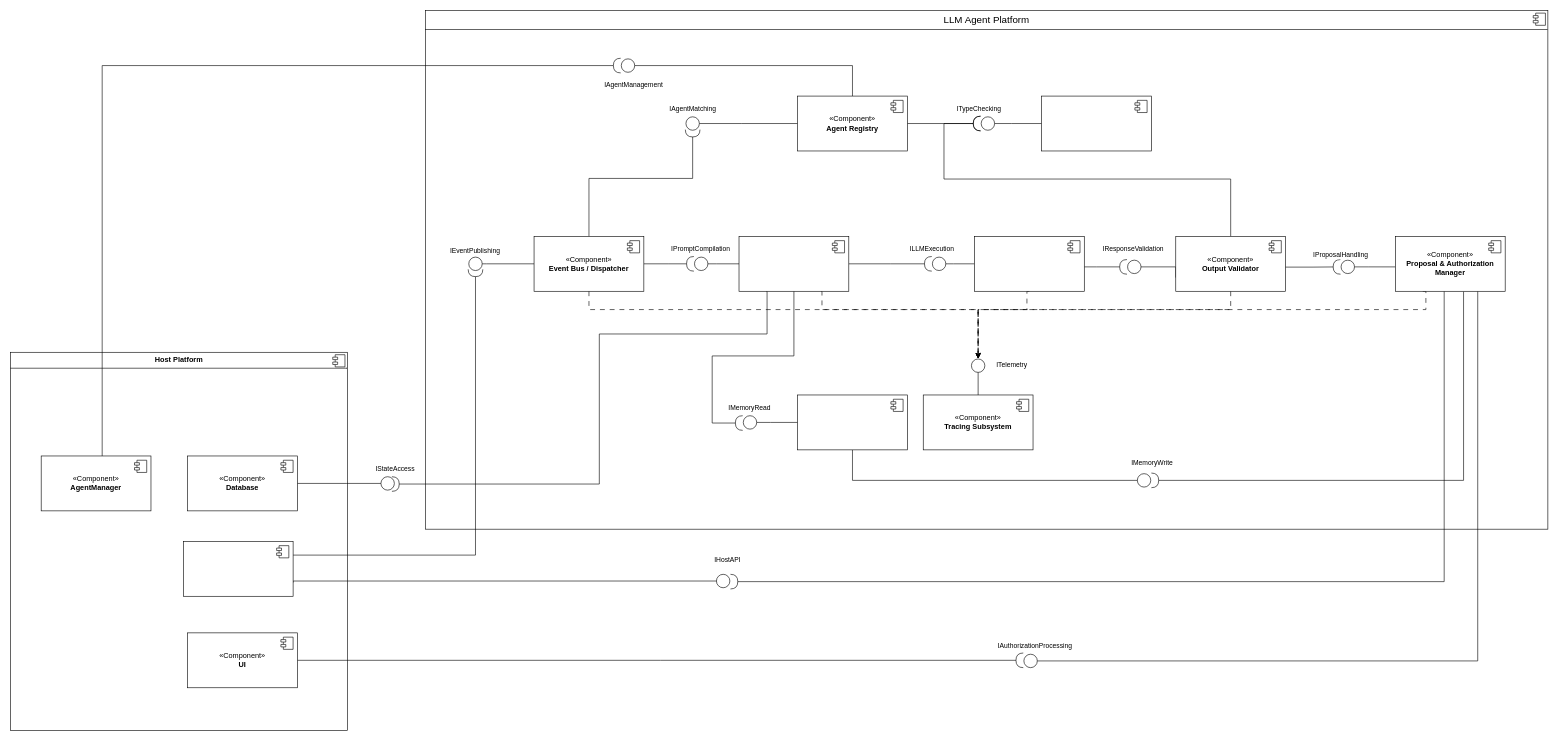
The diagram is 1559 pixels wide and 741 high, and some of its shapes have lost their labels. The shapes that lost their labels are listed below. From the top down, each one's centre as x and y in pixels, then its label:
pixel 1096 123: «Component» Type System
pixel 793 263: «Component» Prompt Compiler
pixel 1029 263: «Component» LLM Gateway
pixel 852 422: «Component» Agent-Memory Storage
pixel 238 568: «Component» ExecutionManager
